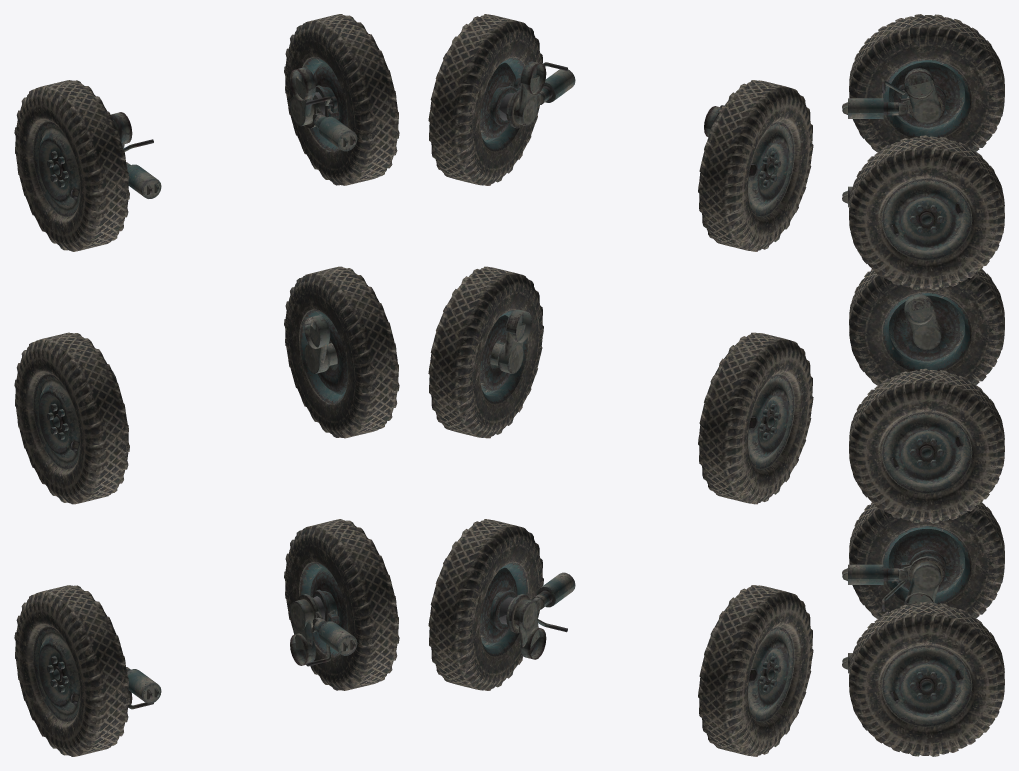
Rendered from Chassis.glb.
3 renders of one model, left to right at view 1: azimuth 30°, elevation 25°; view 2: azimuth 150°, elevation 25°; view 3: azimuth 270°, elevation 25°, orthographic. The views are drawn at different scales.
Visible parts, largest first — view 1: set_0_group_1, set_1_group_1, set_1_group_0, set_0_group_0; view 2: set_0_group_1, set_1_group_1, set_1_group_0, set_0_group_0; view 3: set_1_group_1, set_0_group_1, set_0_group_0, set_1_group_0.
Boxes of the visible parts, x1=… form: set_0_group_1: x1=14, y1=80, x2=129, y2=756; set_1_group_1: x1=284, y1=14, x2=399, y2=690; set_1_group_0: x1=290, y1=56, x2=357, y2=666; set_0_group_0: x1=33, y1=112, x2=161, y2=722; set_0_group_1: x1=698, y1=80, x2=813, y2=756; set_1_group_1: x1=428, y1=14, x2=543, y2=690; set_1_group_0: x1=480, y1=56, x2=575, y2=659; set_0_group_0: x1=704, y1=105, x2=794, y2=722; set_1_group_1: x1=849, y1=135, x2=1004, y2=756; set_0_group_1: x1=849, y1=14, x2=1004, y2=618; set_0_group_0: x1=842, y1=59, x2=971, y2=611; set_1_group_0: x1=842, y1=178, x2=972, y2=727.
Bounding box in the file's own units: 2.57 × 5.22 × 1.27.
Materials: 4 (4 with a texture image).
